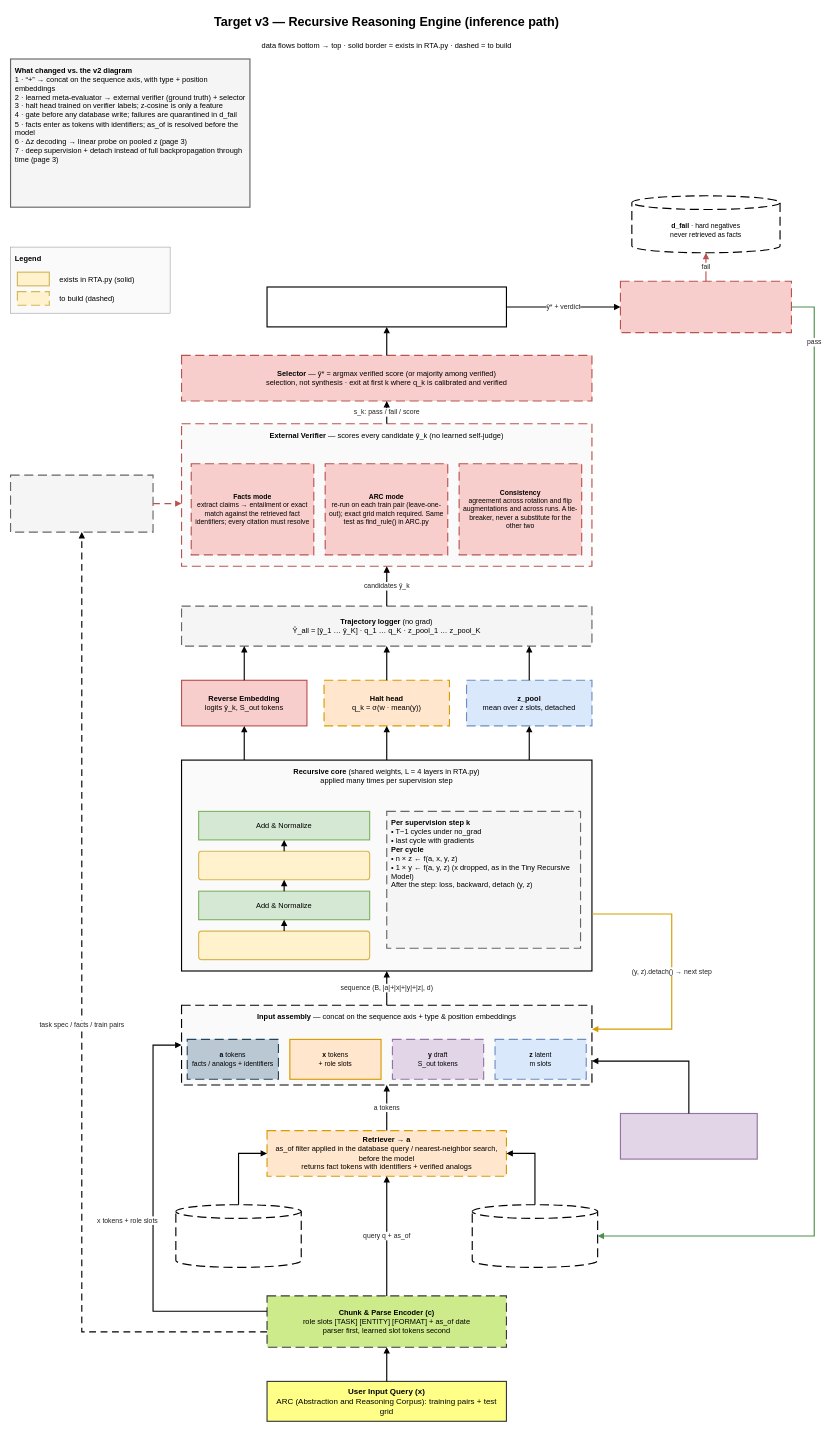
This 831x1431 diagram has some shape labels left out. Here are the shapes that lost their labels. From the top down, the centre of each, then its label:
the point at 386,306: Final Output y*
the point at 706,306: Write gate pass → d_pass · fail → d_fail (quarantine)
the point at 81,503: Ground-truth refs (read-only) fact identifiers · ARC training pairs · tests
the point at 284,865: MLP (multi-layer perceptron)
the point at 284,945: Multi-head self-attention
the point at 689,1136: y₀, z₀ — learned init (first supervision step only)
the point at 238,1236: k · bi-temporal facts valid_from · valid_to · recorded_at (append only)
the point at 534,1236: d_pass · replay buffer verified (x, a, z, ŷ) also searched as analogs
